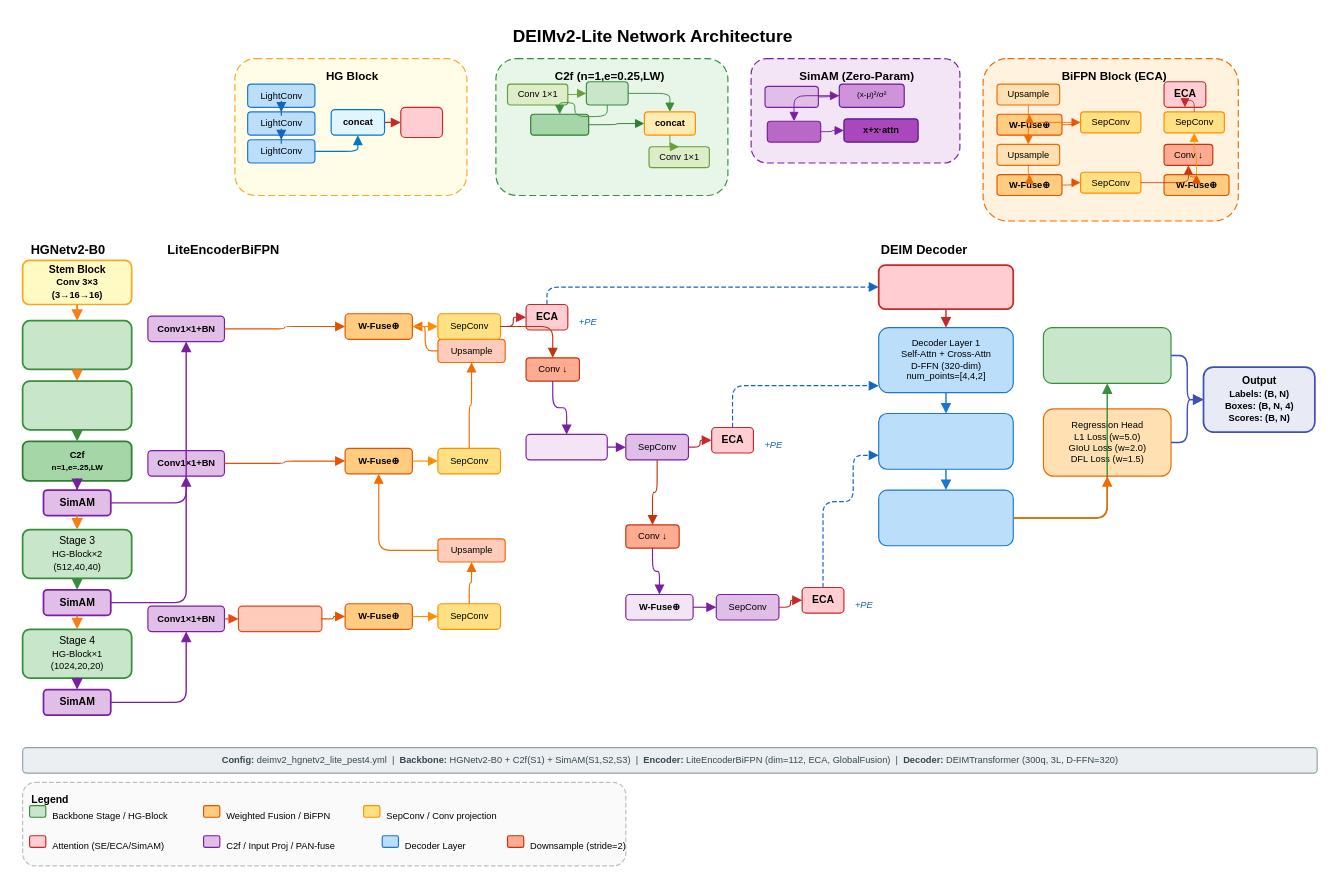
This 1337x886 diagram has some shape labels left out. Here are the shapes that lost their labels. From the top down, the centre of each, then its label:
(x=606, y=93): split
(x=791, y=96): x - μ
(x=421, y=121): SE
(x=559, y=124): LightBot
(x=793, y=131): sigmoid
(x=945, y=286): Query Embedding 300 learnable queries
(x=76, y=344): Stage 1 HG-Block×1 (64,160,160)
(x=1106, y=355): Classification Head 4 classes Focal Loss (α=0.75, γ=1.5)
(x=76, y=405): Stage 2 HG-Block×1 (256,80,80)
(x=566, y=446): W-Fuse⊕(3)
(x=945, y=440): Decoder Layer 2 Self-Attn + Cross-Attn D-FFN (320-dim)
(x=945, y=517): Decoder Layer 3 Self-Attn + Cross-Attn D-FFN + Output
(x=279, y=618): GlobalFusion
